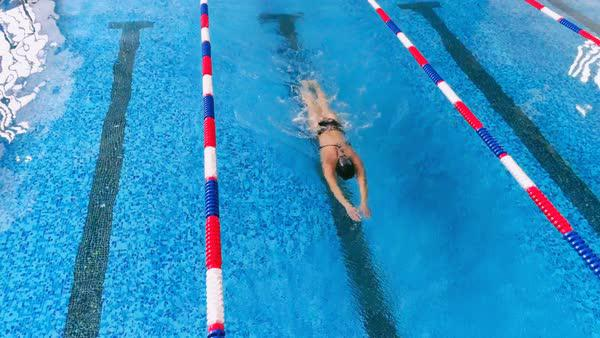swimmer: (296, 76, 374, 224)
